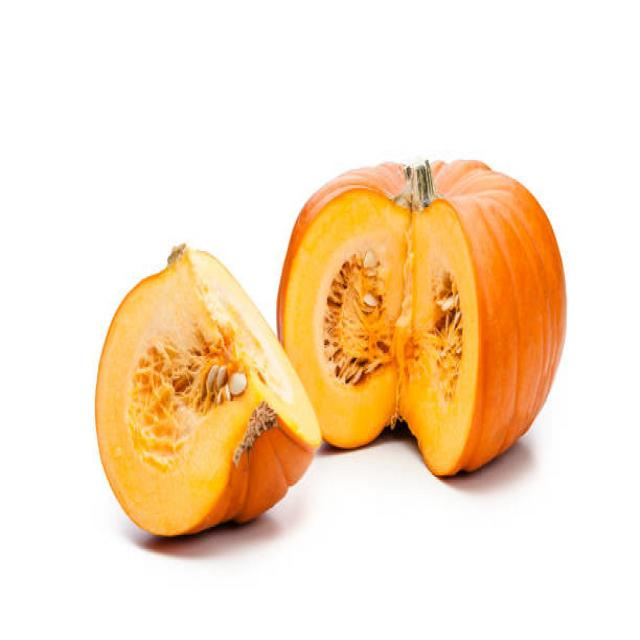Pumpkin: (298, 153, 570, 482), (94, 250, 280, 543)
